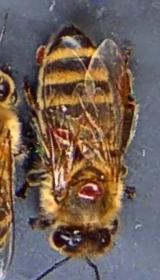varroa_mite: (47, 117, 80, 151), (74, 175, 106, 206)
